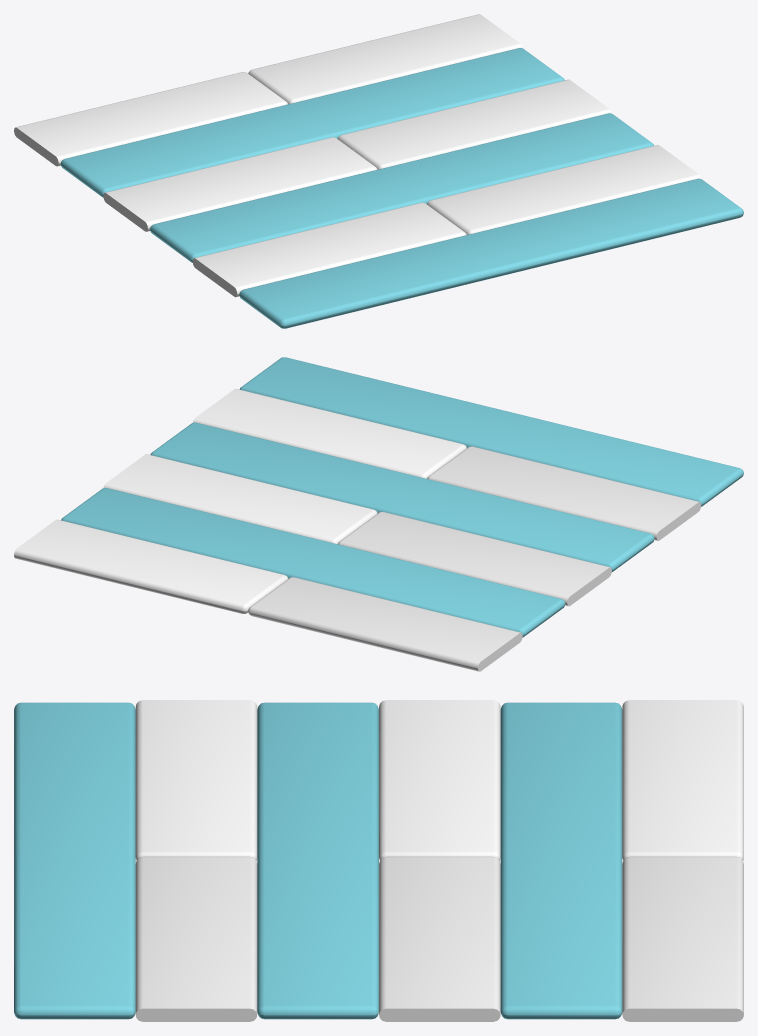
File: RoomGround3.fbx
The picture shows the model from 3 angles, top to bottom: view 1: azimuth 30°, elevation 25°; view 2: azimuth 150°, elevation 25°; view 3: azimuth 270°, elevation 25°; orthographic projection. The views are drawn at different scales.
Parts seen in each view (by area): view 1: RoomGround3; view 2: RoomGround3; view 3: RoomGround3.
Boxes of the visible parts, bbox=[...] form: RoomGround3: bbox=[14, 14, 743, 328]; RoomGround3: bbox=[14, 357, 743, 671]; RoomGround3: bbox=[14, 700, 743, 1021].
Bounding box in the file's own units: 6 × 6 × 0.12.
